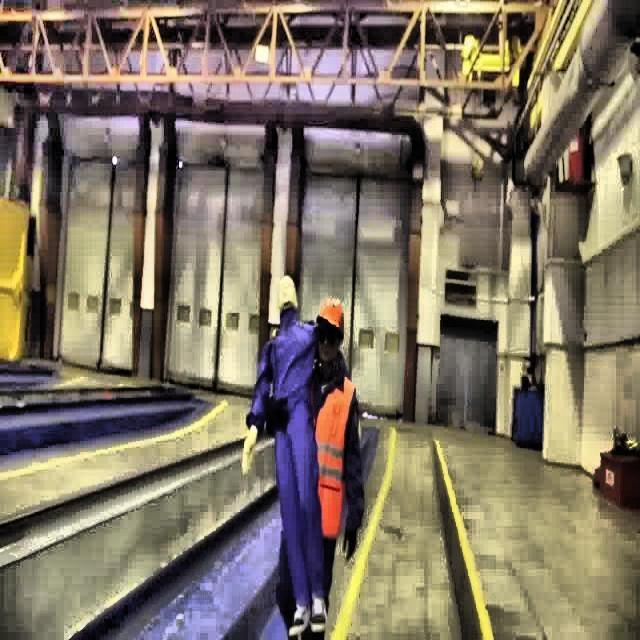safety_helmet: (320, 297, 346, 337)
safety_jacket: (315, 370, 357, 540)
